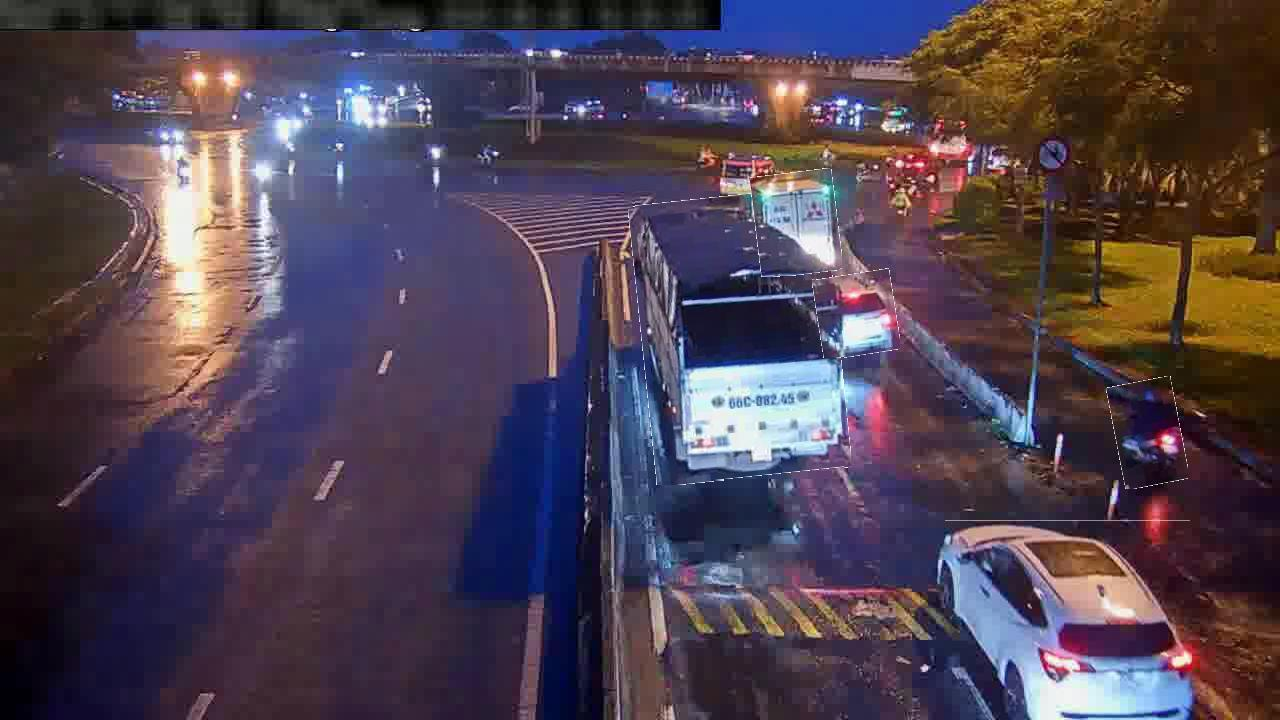car: (945, 520, 1191, 719), (815, 271, 899, 358)
container: (635, 192, 845, 482), (753, 171, 841, 277)
motorbike: (1111, 378, 1185, 488)
